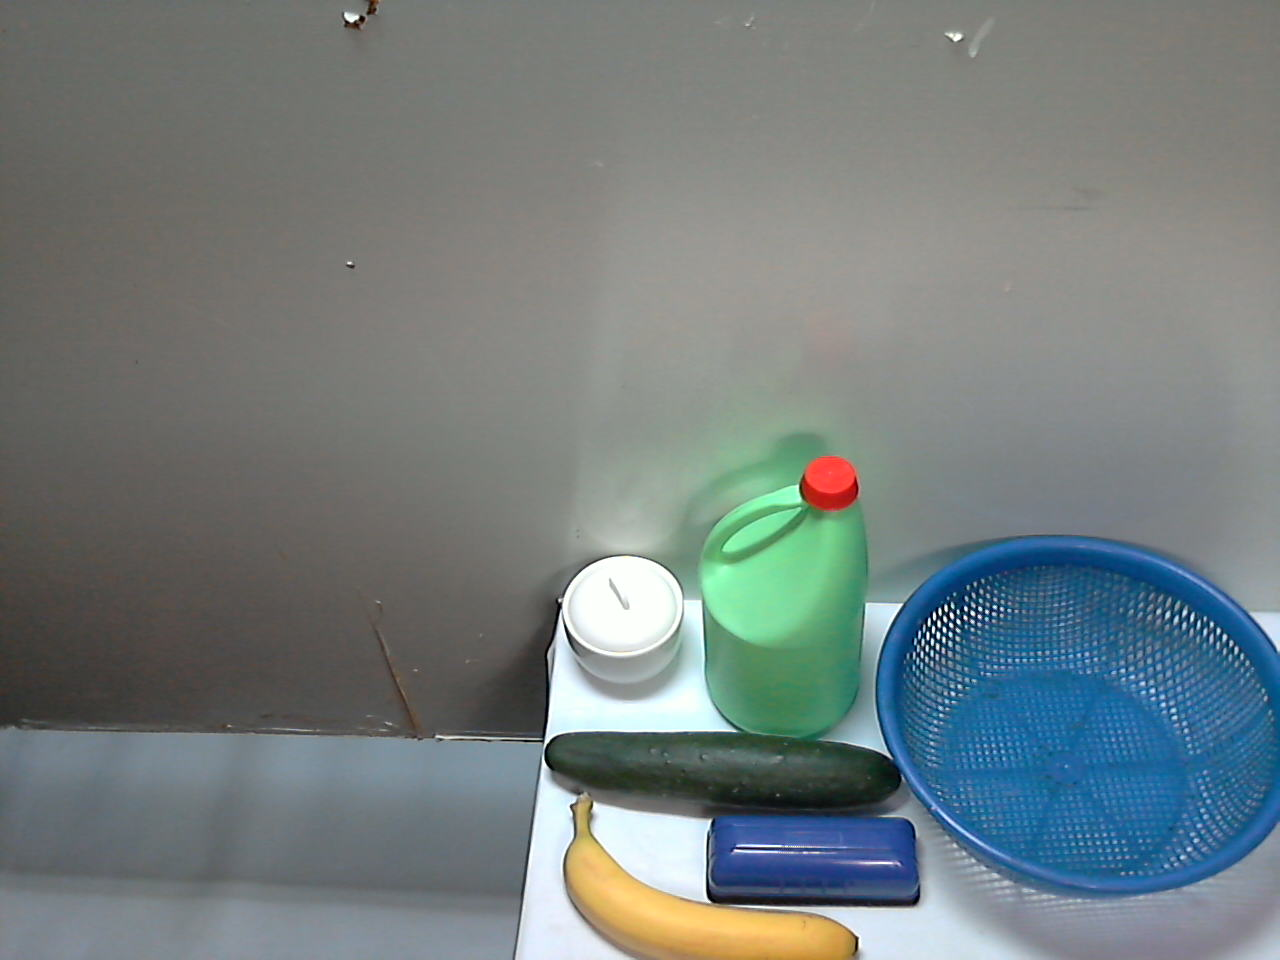borrador: (730, 661, 839, 869)
cloroplano: (447, 475, 641, 770)
colador: (801, 582, 1226, 950)
linterna: (611, 654, 738, 838)
pepino: (573, 828, 977, 960)
pescado: (406, 744, 601, 956)
